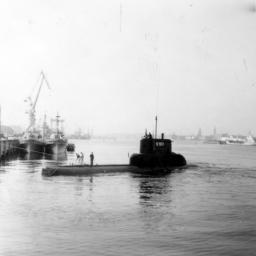submarine: (44, 139, 202, 179)
